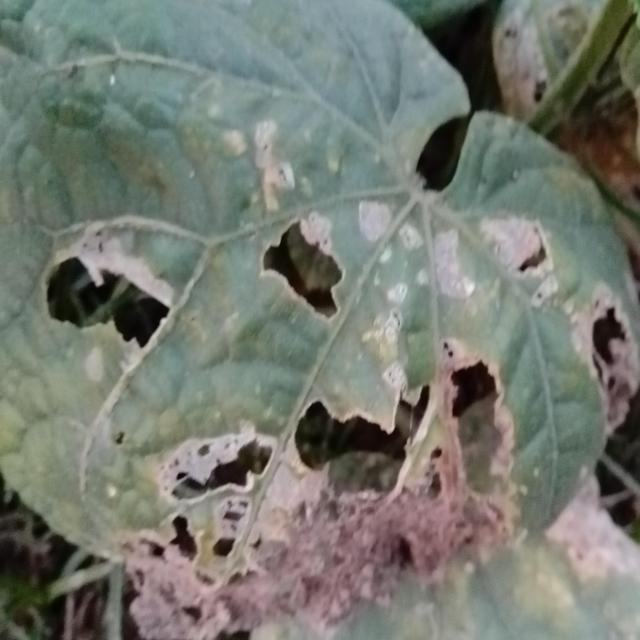cucumber_anthracnose: (28, 112, 638, 630)
